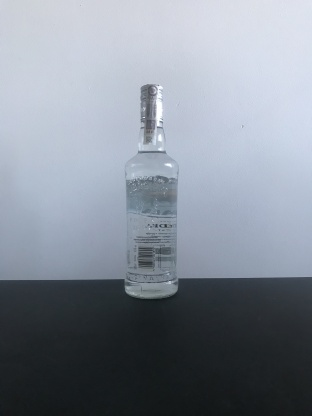nakretka: (137, 79, 166, 124)
